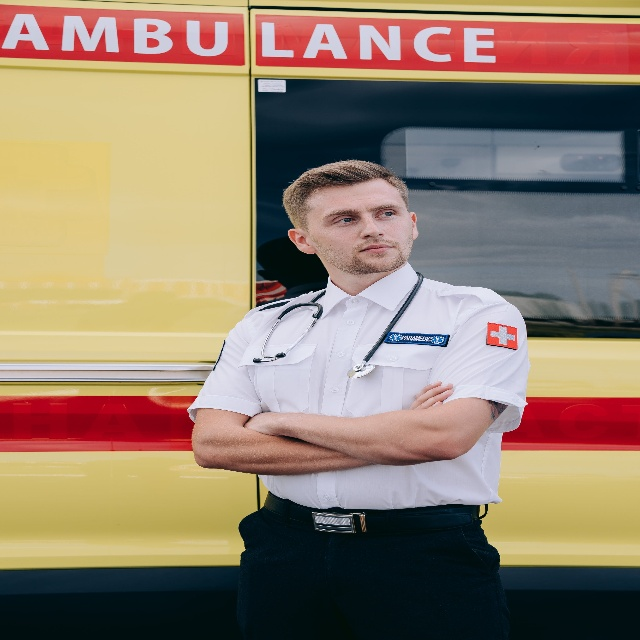Sin_guantes: (412, 377, 452, 411)
